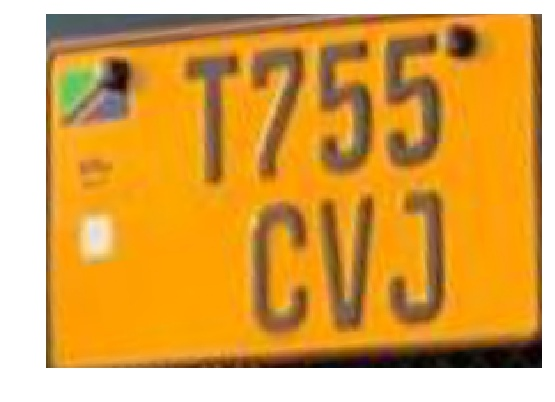T: (176, 47, 245, 188)
